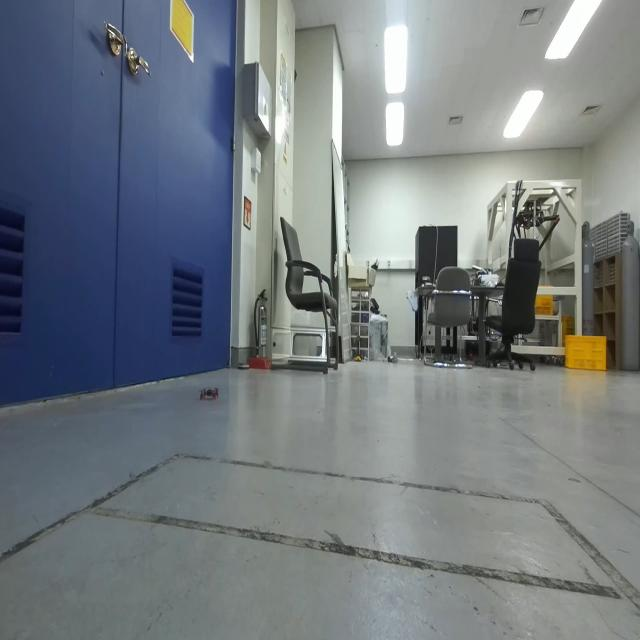crazyflie: (198, 378, 222, 406)
